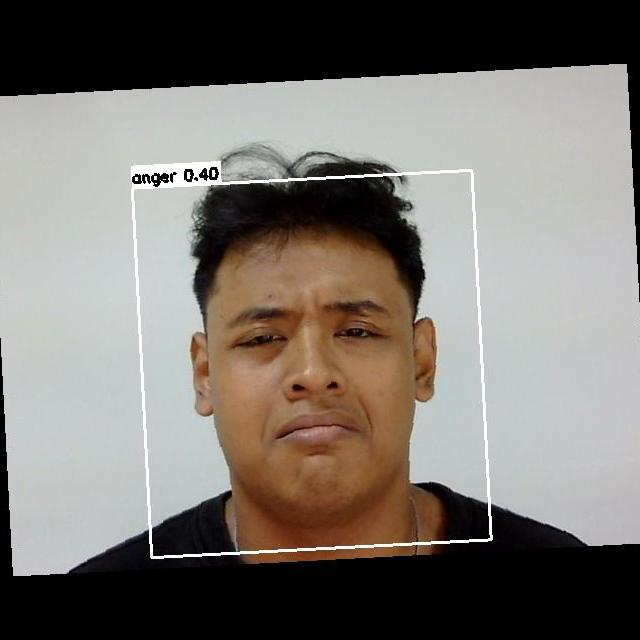Sad: (205, 278, 432, 478)
